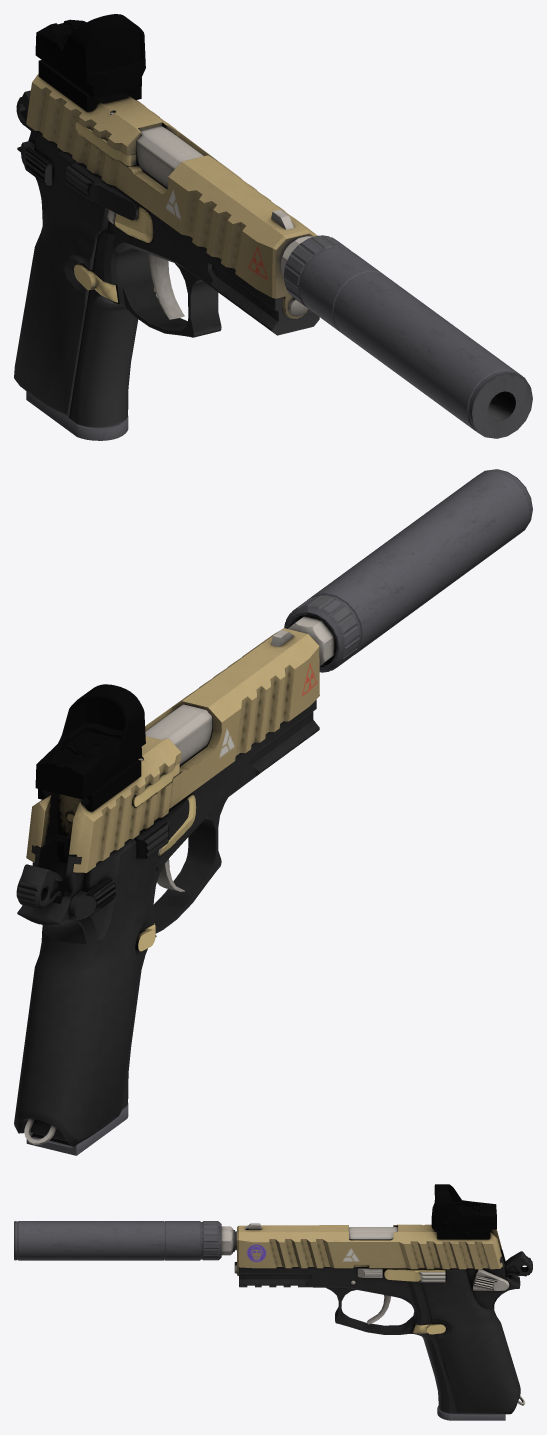
File: pistol3.fbx
3 views of the same model, one above another, from view 1: azimuth 30°, elevation 25°; view 2: azimuth 150°, elevation 25°; view 3: azimuth 270°, elevation 25° (orthographic). The views are drawn at different scales.
Visible parts, largest first — view 1: pistol3; view 2: pistol3; view 3: pistol3.
Part boxes in pixels (bbox=[...]): pistol3: bbox=[14, 14, 532, 440]; pistol3: bbox=[14, 469, 532, 1155]; pistol3: bbox=[14, 1184, 532, 1420].
Bounding box in the file's own units: 3.54 × 17.32 × 35.86.
1 material, 1 textured.
